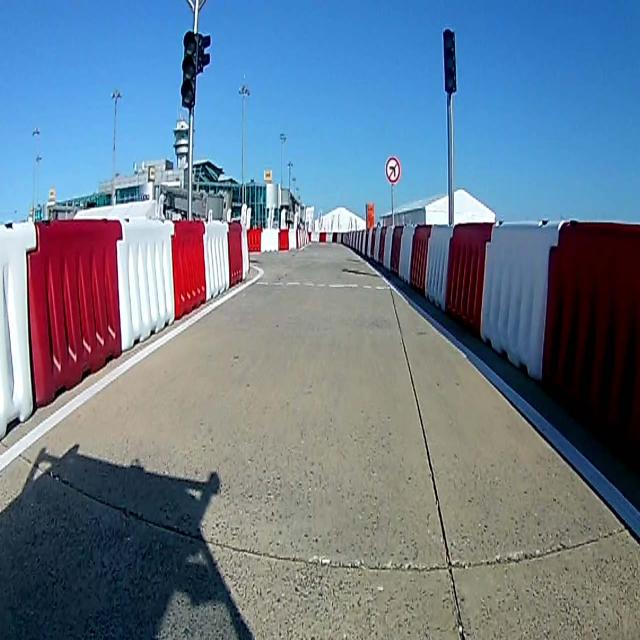soladonulmez: (386, 157, 400, 183)
